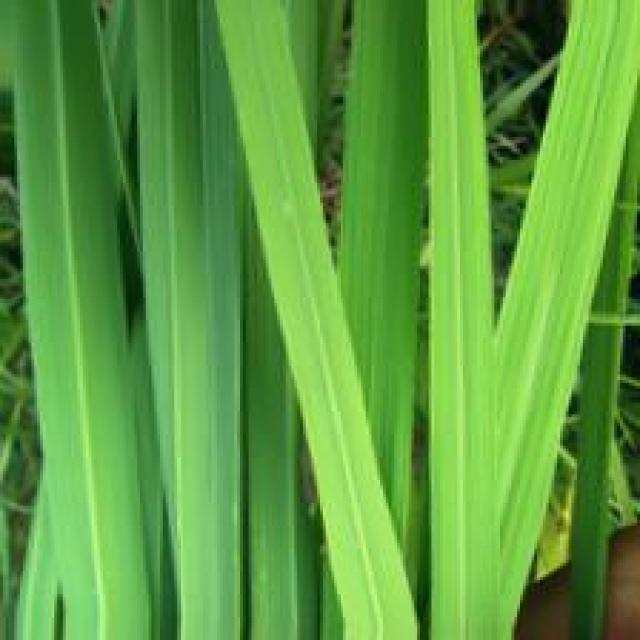HealthyLeaf: (498, 4, 636, 599), (16, 4, 145, 586), (226, 6, 379, 489), (339, 7, 421, 482), (433, 136, 503, 582), (144, 4, 211, 429)
